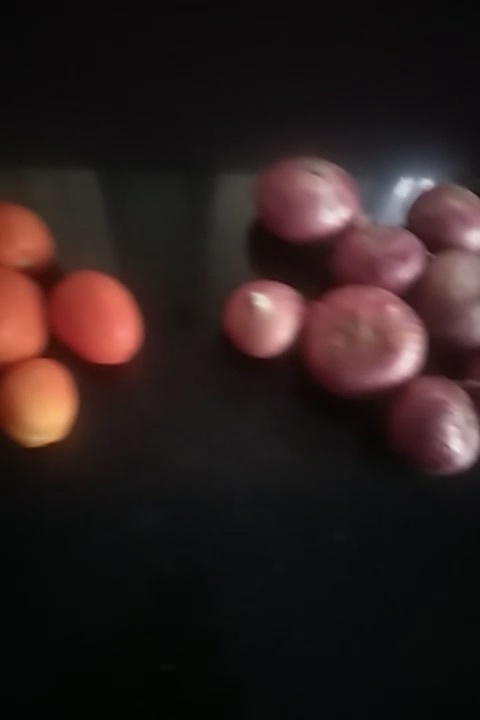onion: (307, 287, 426, 393), (396, 359, 480, 477), (253, 145, 345, 241), (410, 241, 480, 357), (229, 276, 311, 365), (328, 215, 424, 289), (395, 177, 480, 249)
tomato: (51, 274, 153, 366), (1, 361, 82, 447), (1, 264, 53, 373), (1, 193, 65, 272)
